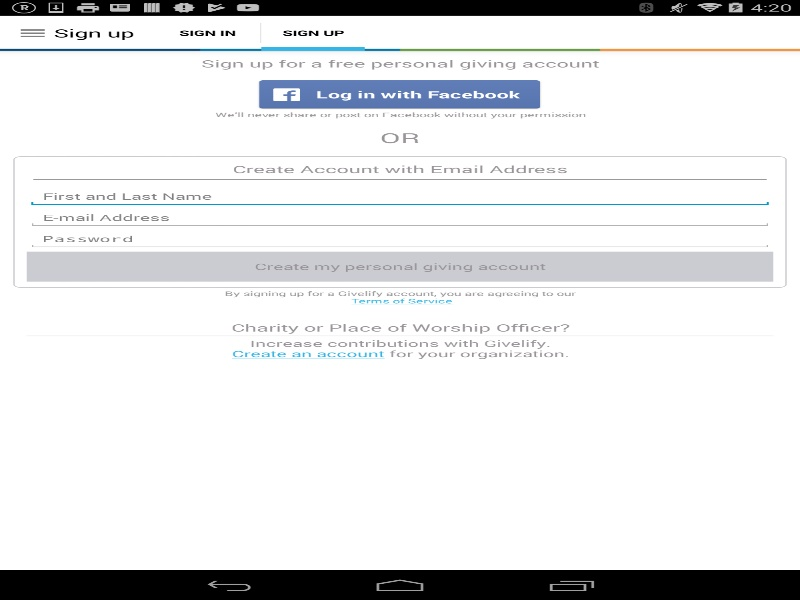Button: (26, 251, 773, 281), (257, 79, 542, 109)
Input: (26, 185, 773, 207), (26, 207, 773, 228), (26, 228, 773, 249)
